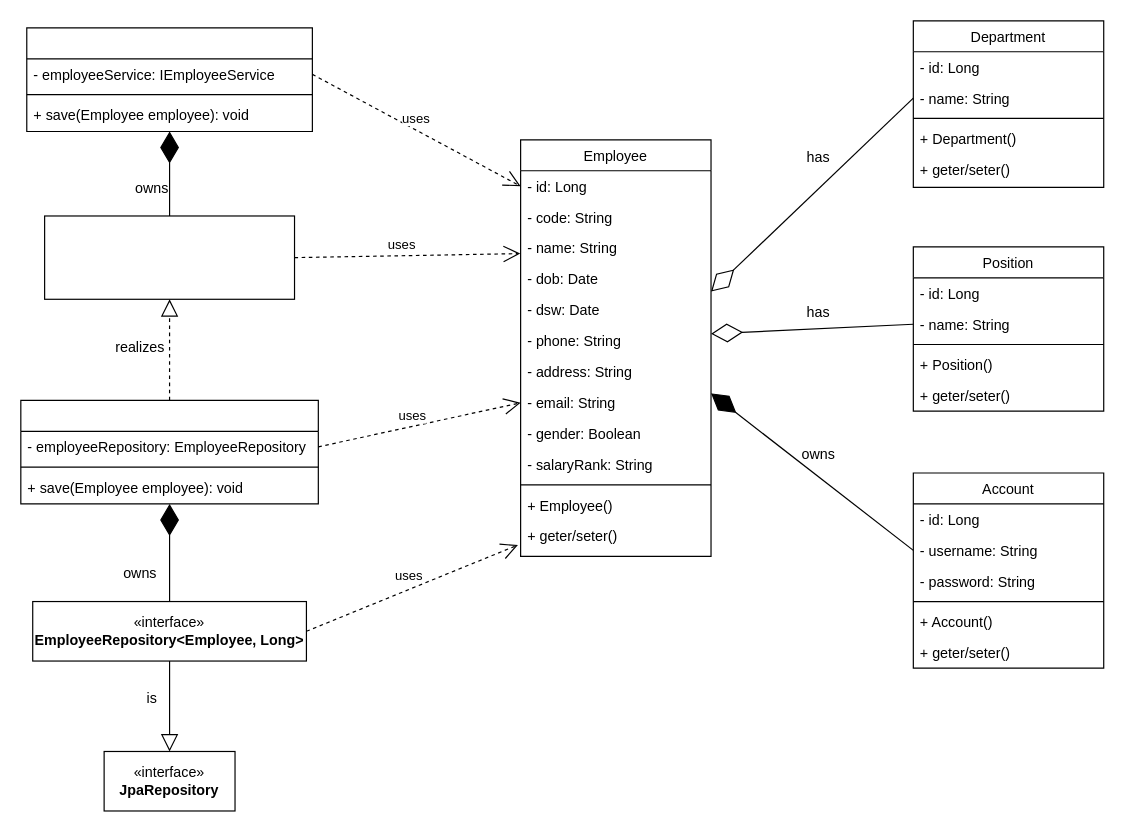
Some shapes in this 1125 by 832 pixel diagram are drawn without their labels. Here are the shapes that lost their labels. From the top down, the box of each, then its label:
(26, 27, 312, 131): EmployeeController
(43, 215, 295, 299): <<Interface>> IEmployeeService + save(Employee employee): void
(20, 399, 318, 504): EmployeeService
